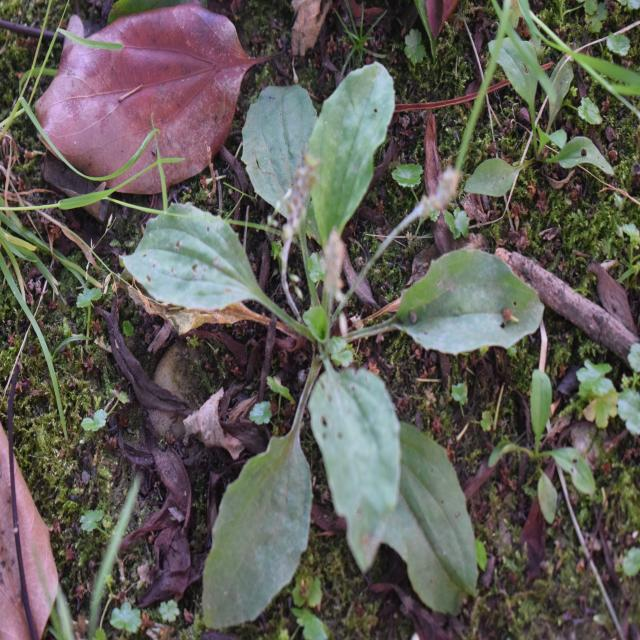plantain: (150, 67, 506, 579)
